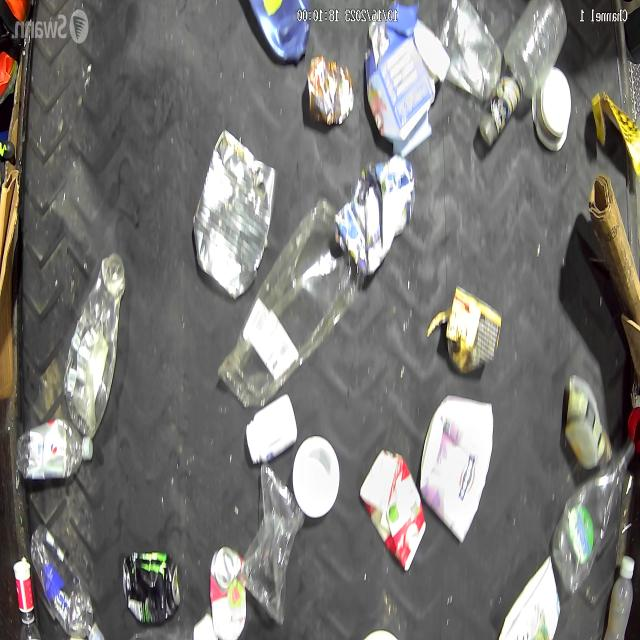can: (192, 130, 276, 300), (446, 286, 502, 374), (122, 551, 182, 627), (306, 55, 356, 128), (210, 545, 247, 640)
non_white_jug: (363, 2, 436, 157), (360, 450, 427, 570)
plastic_bottle: (550, 436, 636, 594), (479, 0, 567, 146), (63, 254, 126, 434), (30, 522, 105, 640), (441, 0, 502, 101), (18, 418, 93, 481), (603, 555, 636, 640)
